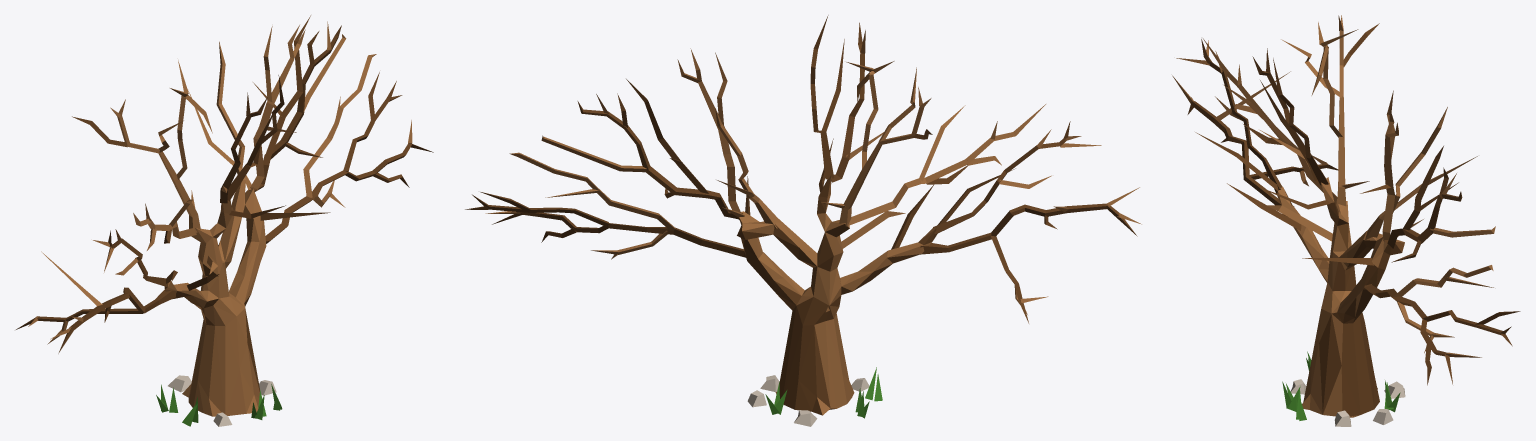
Rendered from apple_bare.glb.
3 views of the same model, side by side, from view 1: azimuth 30°, elevation 25°; view 2: azimuth 150°, elevation 25°; view 3: azimuth 270°, elevation 25° (orthographic). The views are drawn at different scales.
Parts seen in each view (by area): view 1: apple_bare; view 2: apple_bare; view 3: apple_bare.
Boxes of the visible parts, x1,y1,x2,y2 form: apple_bare: [16, 15, 433, 426]; apple_bare: [465, 15, 1141, 426]; apple_bare: [1172, 15, 1520, 426].
Bounding box in the file's own units: 8.88 × 5.78 × 5.14.
